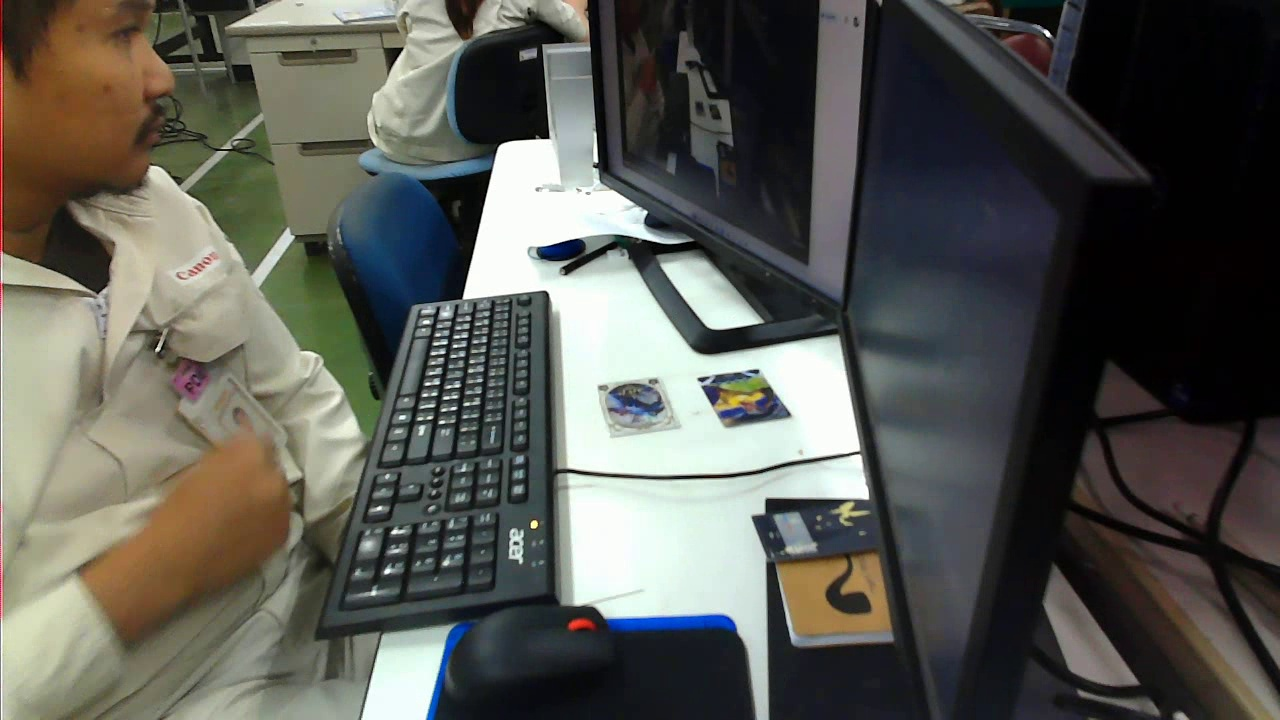can: (691, 362, 794, 427), (589, 369, 680, 435)
